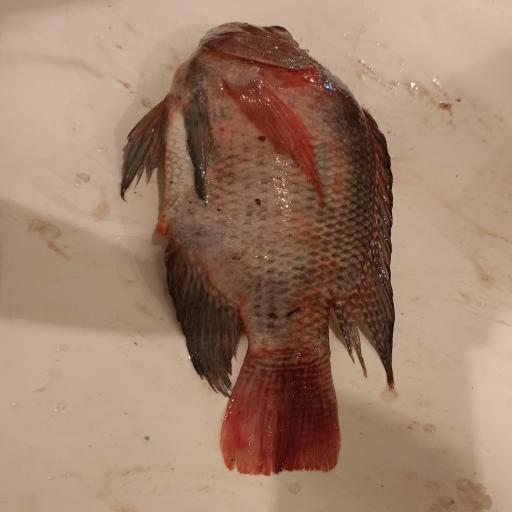Tilapia: (120, 22, 397, 476)
